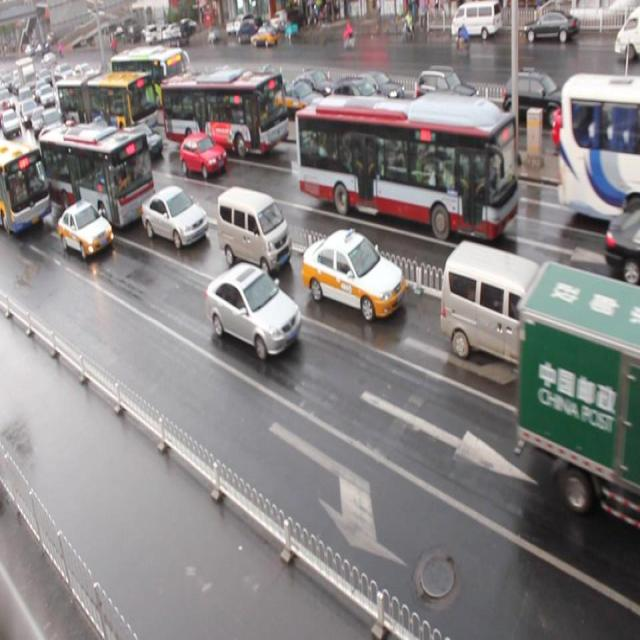bus: (516, 261, 640, 527)
car: (300, 228, 404, 321), (206, 262, 302, 360), (141, 185, 208, 250), (57, 199, 115, 258), (602, 207, 640, 285), (178, 130, 226, 178), (125, 122, 163, 162)
truck: (440, 240, 568, 386), (216, 186, 292, 276)
van: (295, 92, 515, 240), (38, 121, 156, 232), (555, 74, 640, 222), (161, 70, 287, 154), (58, 72, 158, 130), (0, 138, 52, 234)
